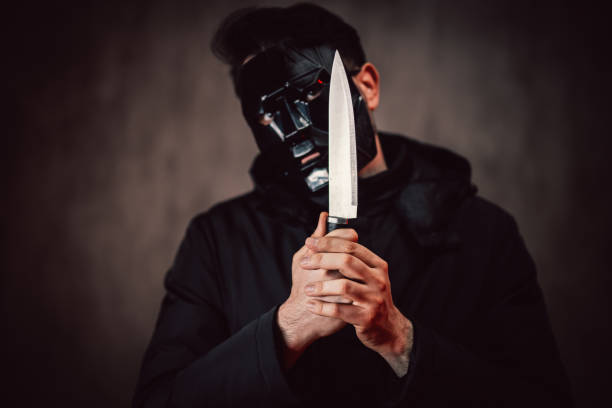knife: (328, 50, 355, 231)
